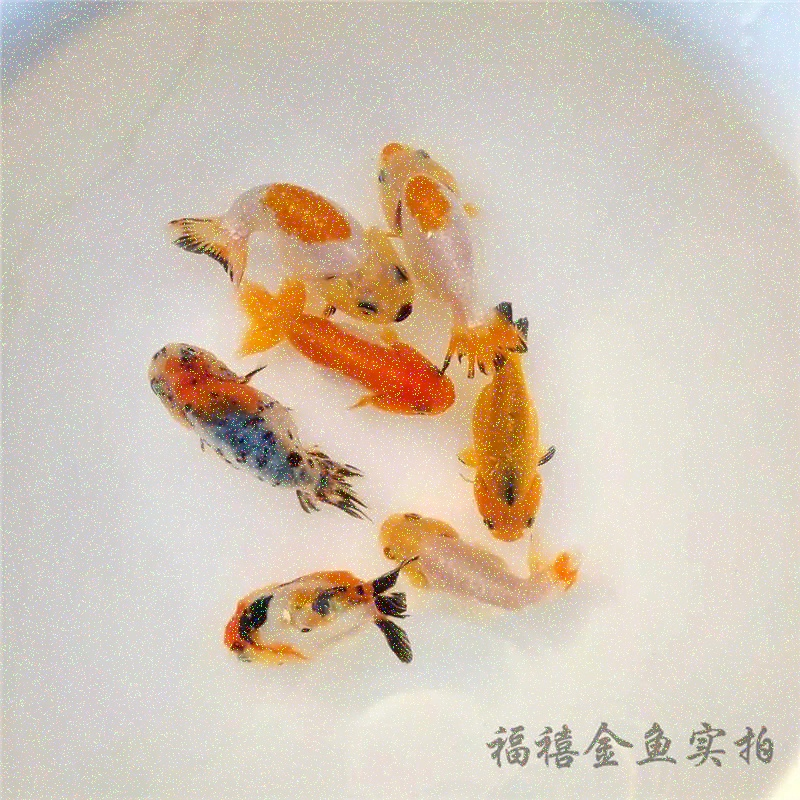fry: (131, 336, 354, 530), (206, 177, 413, 339), (366, 138, 511, 348), (192, 563, 422, 695), (380, 497, 610, 615), (252, 299, 464, 427), (450, 322, 563, 538)
